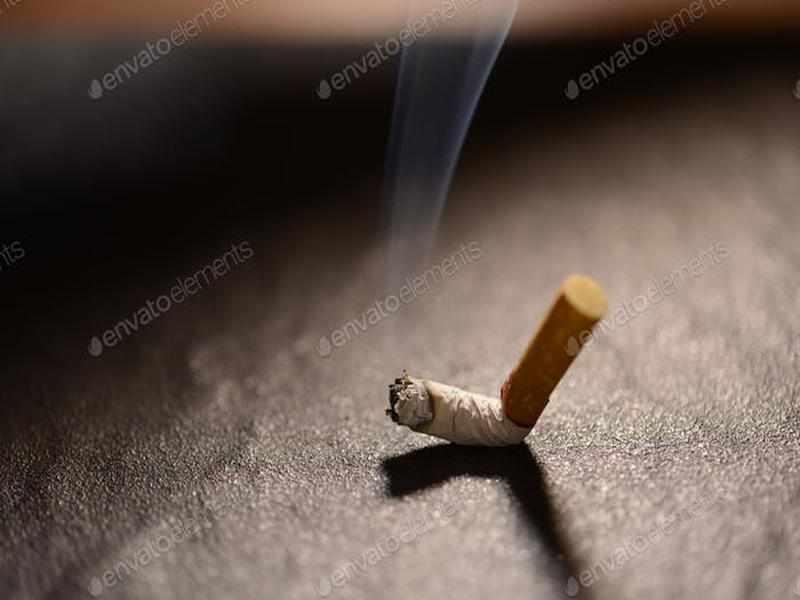burned_cigarette: (380, 275, 609, 455)
